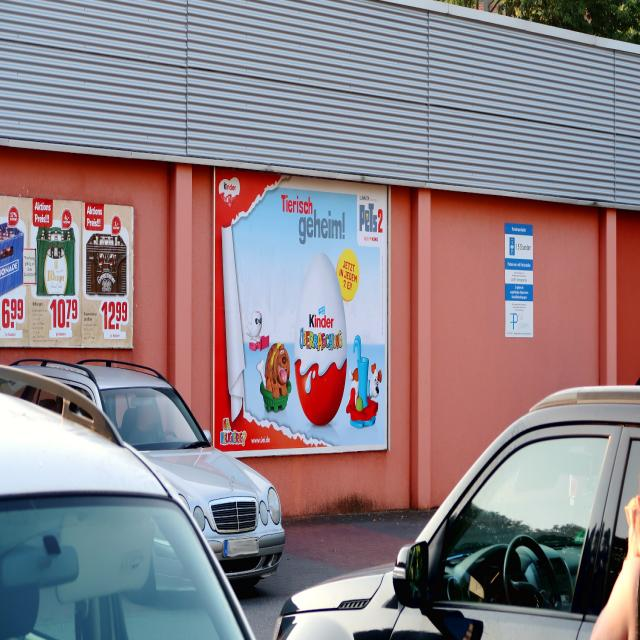Werbetafel frei: (209, 171, 395, 457), (0, 194, 138, 354)
